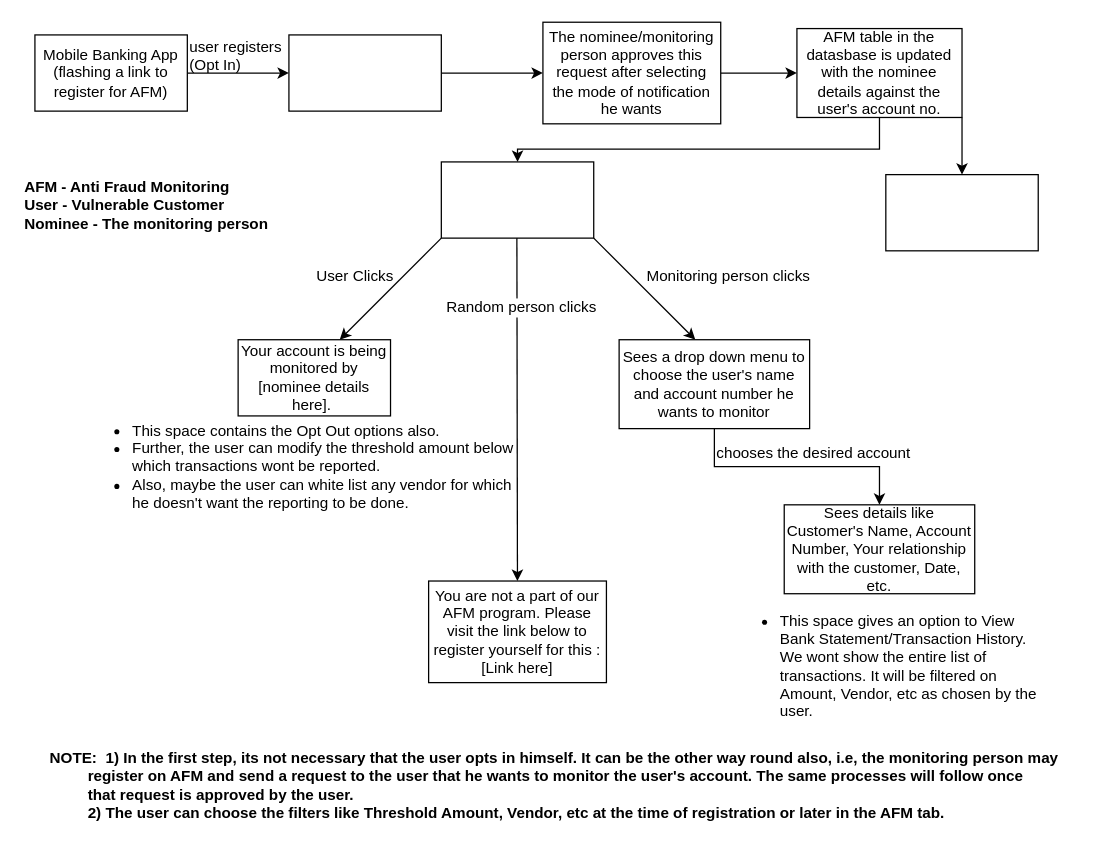
The diagram is 1097 pixels wide and 846 high, and some of its shapes have lost their labels. The box of each missing label's shape, as (x1, y1, x2, y2) in pixels:
AFM tab in the Side Menu: (440, 161, 594, 238)
Request received by the nominee (in app/ email/ sms): (288, 34, 441, 111)
The monitoring guy starts receiving reports on the mode he opted for.: (885, 173, 1038, 251)
